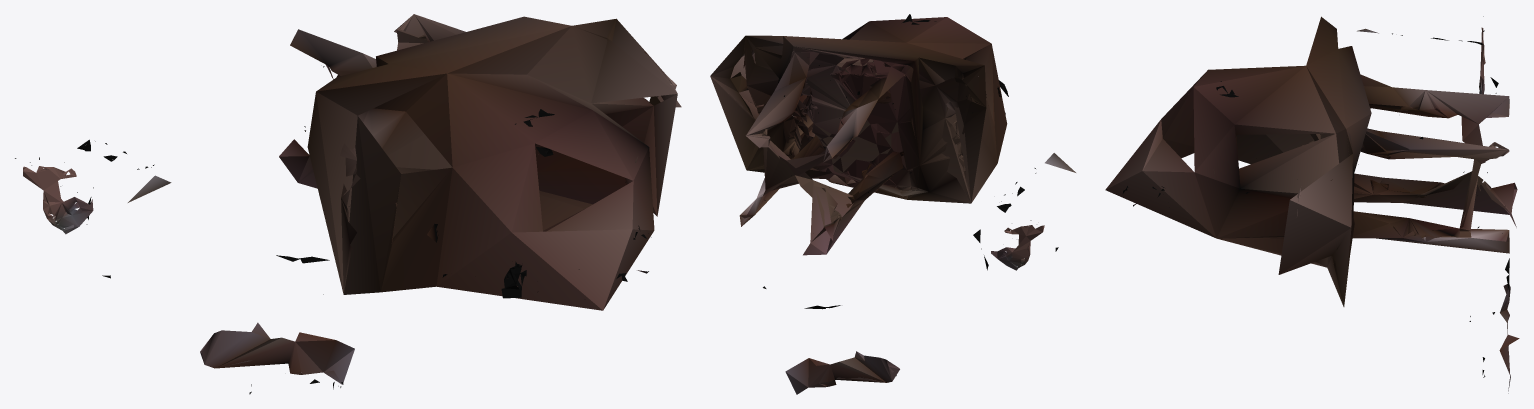
Rendered from Object Scan.obj.
3 renders of one model, left to right at view 1: azimuth 30°, elevation 25°; view 2: azimuth 150°, elevation 25°; view 3: azimuth 270°, elevation 25°, orthographic. The views are drawn at different scales.
Size of the model in its own units: 899 by 632 by 733.
